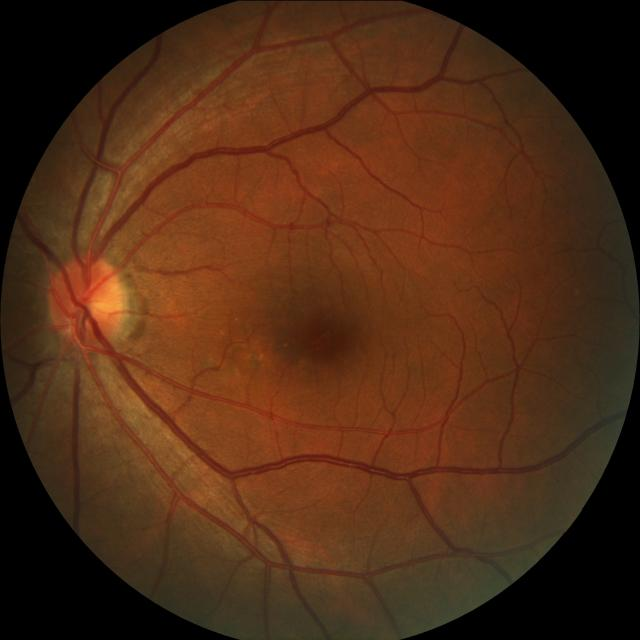OC: (67, 282, 110, 326)
OD: (45, 254, 126, 348)
